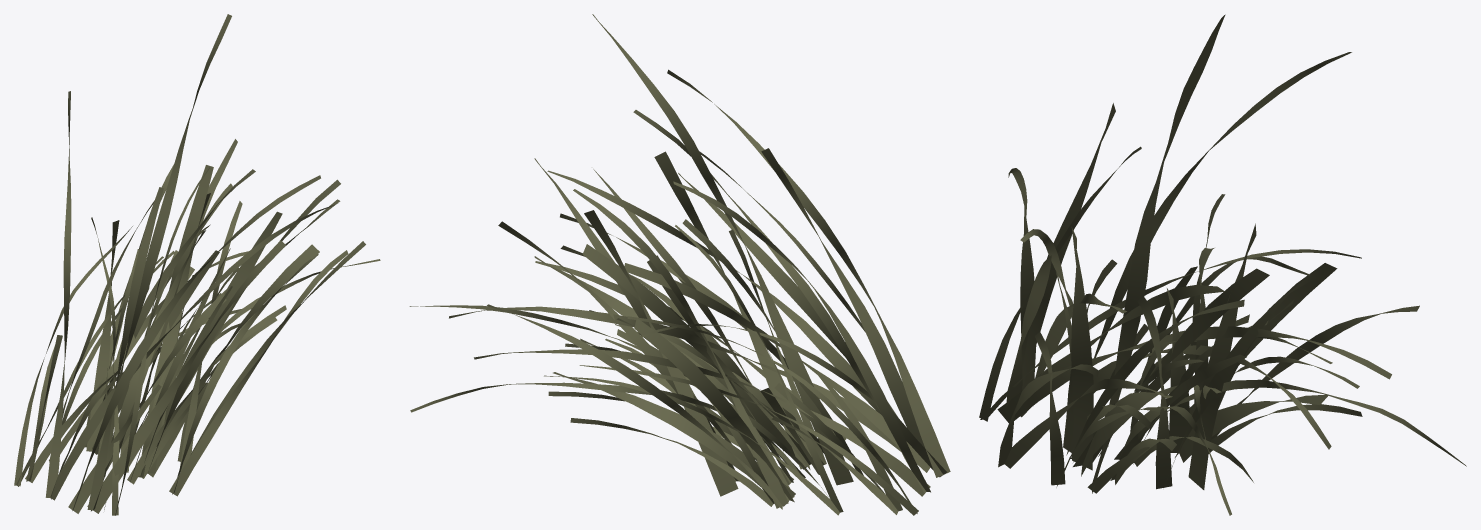
File: GrassA.fbx
3 views of the same model, side by side, from view 1: azimuth 30°, elevation 25°; view 2: azimuth 150°, elevation 25°; view 3: azimuth 270°, elevation 25° (orthographic). The views are drawn at different scales.
Parts seen in each view (by area): view 1: grassClump1Main; view 2: grassClump1Main; view 3: grassClump1Main.
Part boxes in pixels (left/top/right/bottom): grassClump1Main: left=14, top=14, right=380, bottom=515; grassClump1Main: left=409, top=14, right=950, bottom=515; grassClump1Main: left=979, top=14, right=1466, bottom=515.
Size of the model in its own units: 4.7 by 4.43 by 3.57.
